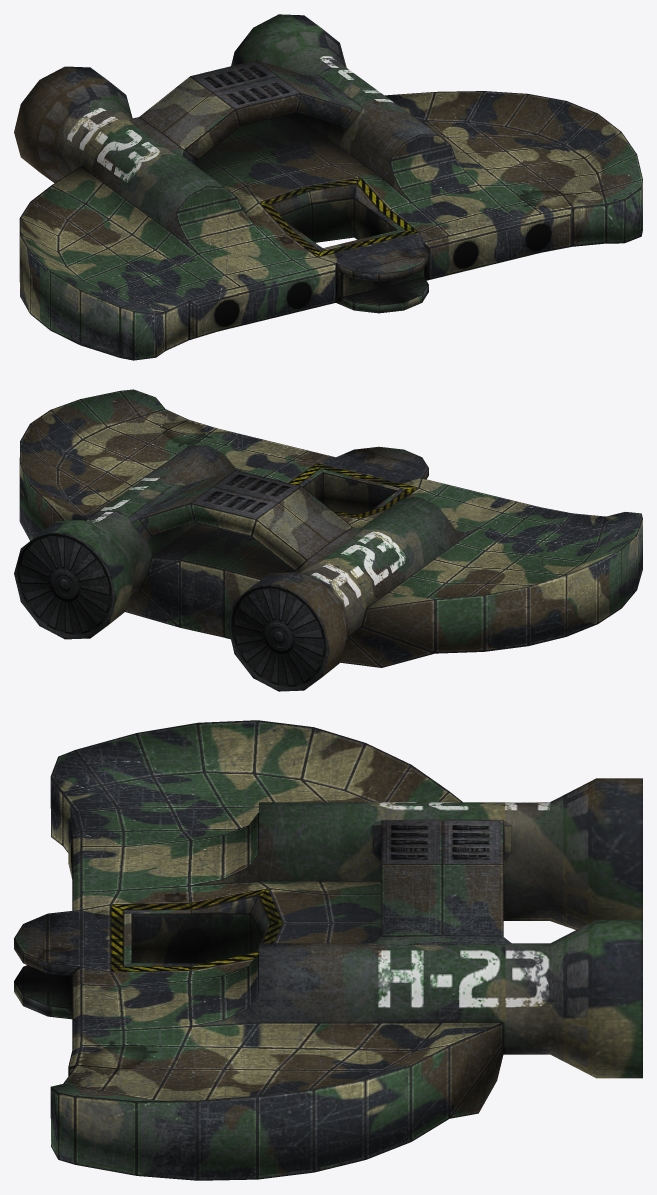
Rendered from Boss3.fbx.
3 views of the same model, one above another, from view 1: azimuth 30°, elevation 25°; view 2: azimuth 150°, elevation 25°; view 3: azimuth 270°, elevation 25° (orthographic). The views are drawn at different scales.
Parts seen in each view (by area): view 1: Body; view 2: Body; view 3: Body.
Part boxes in pixels (<box>): Body: <box>14,14,642,360</box>; Body: <box>14,389,642,691</box>; Body: <box>14,720,642,1180</box>.
Size of the model in its own units: 10.59 by 2.35 by 7.45.
Materials: 1 (1 with a texture image).
